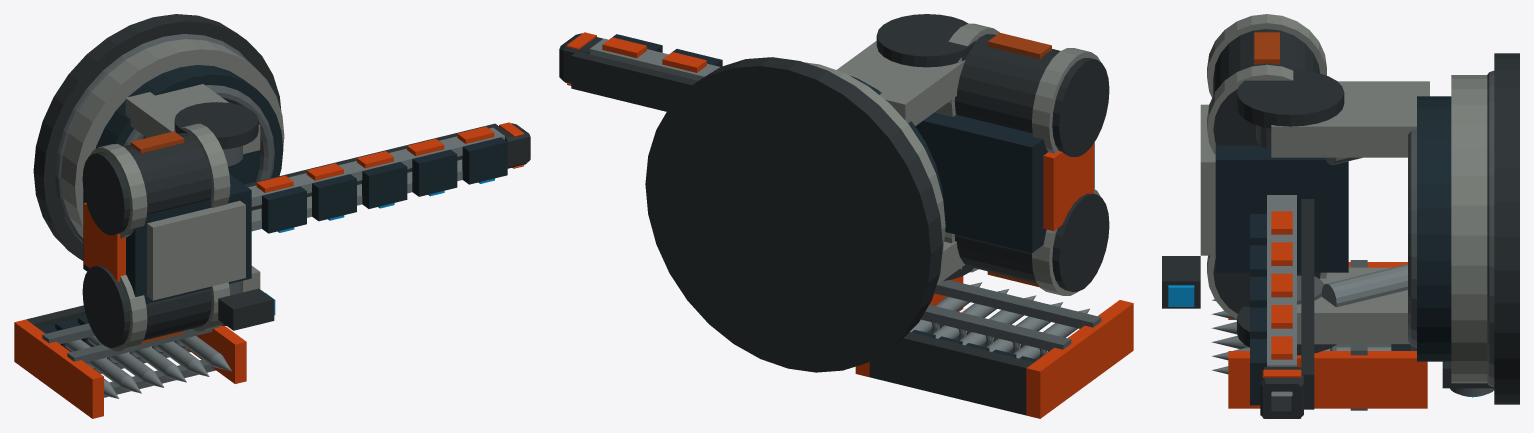
Rendered from harpoon_cannon_railgun_c_blockout_v5.obj.
The picture shows the model from 3 angles, left to right: view 1: azimuth 30°, elevation 25°; view 2: azimuth 150°, elevation 25°; view 3: azimuth 270°, elevation 25°; orthographic projection. The views are drawn at different scales.
Parts seen in each view (by area): view 1: HC_RG_STATIC_DeckFlange, HC_RG_STATIC_LowerHousing, HC_RG_PITCH_BreechTopPanel, HC_RG_PITCH_CapacitorPod_Right, HC_RG_PITCH_CapacitorPod_Left, HC_RG_YAW_Turntable, HC_RG_YAW_AmmoBasketRearGuard, HC_RG_PITCH_BreechHousing, HC_RG_YAW_ElevationFork_Right, HC_RG_YAW_ElevationGear_Right, HC_RG_STATIC_BoltRing, HC_RG_PITCH_BreechRearLatch (+26 smaller); view 2: HC_RG_STATIC_DeckFlange, HC_RG_PITCH_BreechHousing, HC_RG_PITCH_CapacitorPod_Right, HC_RG_YAW_AmmoBasketBottom, HC_RG_PITCH_CapacitorPod_Left, HC_RG_YAW_AmmoBasketRearGuard, HC_RG_YAW_ElevationFork_Right, HC_RG_PITCH_ChannelFloor, HC_RG_YAW_ElevationGear_Right, HC_RG_PITCH_BreechRearLatch, HC_RG_YAW_AmmoBasketRearRailHigh, HC_RG_YAW_AmmoBasketRearRailLow (+15 smaller); view 3: HC_RG_PITCH_BreechHousing, HC_RG_STATIC_LowerHousing, HC_RG_YAW_Turntable, HC_RG_STATIC_DeckFlange, HC_RG_YAW_ElevationFork_Right, HC_RG_YAW_AmmoBasketFrontGuard, HC_RG_YAW_ElevationFork_Left, HC_RG_YAW_ElevationGear_Right, HC_RG_PITCH_CapacitorPod_Right, HC_RG_PITCH_RailRight, HC_RG_PITCH_ChannelFloor, HC_RG_STATIC_BoltRing (+27 smaller).
Boxes of the visible parts, x1=… form: HC_RG_STATIC_DeckFlange: x1=33, y1=14, x2=281, y2=260; HC_RG_STATIC_LowerHousing: x1=61, y1=39, x2=284, y2=237; HC_RG_PITCH_BreechTopPanel: x1=147, y1=200, x2=245, y2=300; HC_RG_PITCH_CapacitorPod_Right: x1=82, y1=132, x2=211, y2=235; HC_RG_PITCH_CapacitorPod_Left: x1=82, y1=265, x2=211, y2=347; HC_RG_YAW_Turntable: x1=95, y1=65, x2=283, y2=184; HC_RG_YAW_AmmoBasketRearGuard: x1=14, y1=319, x2=103, y2=418; HC_RG_PITCH_BreechHousing: x1=83, y1=174, x2=251, y2=304; HC_RG_YAW_ElevationFork_Right: x1=125, y1=84, x2=260, y2=154; HC_RG_YAW_ElevationGear_Right: x1=174, y1=102, x2=258, y2=149; HC_RG_STATIC_BoltRing: x1=55, y1=34, x2=251, y2=243; HC_RG_PITCH_BreechRearLatch: x1=83, y1=202, x2=125, y2=281; HC_RG_STATIC_DeckFlange: x1=645, y1=57, x2=942, y2=372; HC_RG_PITCH_BreechHousing: x1=915, y1=112, x2=1094, y2=252; HC_RG_PITCH_CapacitorPod_Right: x1=954, y1=34, x2=1109, y2=156; HC_RG_YAW_AmmoBasketBottom: x1=869, y1=332, x2=1033, y2=415; HC_RG_PITCH_CapacitorPod_Left: x1=954, y1=193, x2=1109, y2=291; HC_RG_YAW_AmmoBasketRearGuard: x1=1026, y1=300, x2=1133, y2=418; HC_RG_YAW_ElevationFork_Right: x1=836, y1=41, x2=965, y2=126; HC_RG_PITCH_ChannelFloor: x1=571, y1=52, x2=697, y2=111; HC_RG_YAW_ElevationGear_Right: x1=876, y1=14, x2=975, y2=67; HC_RG_PITCH_BreechRearLatch: x1=1043, y1=143, x2=1093, y2=231; HC_RG_YAW_AmmoBasketRearRailHigh: x1=934, y1=280, x2=1101, y2=328; HC_RG_YAW_AmmoBasketRearRailLow: x1=920, y1=304, x2=1071, y2=350; HC_RG_PITCH_BreechHousing: x1=1215, y1=145, x2=1348, y2=272; HC_RG_STATIC_LowerHousing: x1=1451, y1=75, x2=1487, y2=383; HC_RG_YAW_Turntable: x1=1417, y1=96, x2=1451, y2=361; HC_RG_STATIC_DeckFlange: x1=1494, y1=53, x2=1519, y2=404; HC_RG_YAW_ElevationFork_Right: x1=1271, y1=81, x2=1429, y2=157; HC_RG_YAW_AmmoBasketFrontGuard: x1=1228, y1=351, x2=1427, y2=408; HC_RG_YAW_ElevationFork_Left: x1=1297, y1=267, x2=1409, y2=344; HC_RG_YAW_ElevationGear_Right: x1=1237, y1=69, x2=1344, y2=128; HC_RG_PITCH_CapacitorPod_Right: x1=1213, y1=29, x2=1319, y2=145; HC_RG_PITCH_RailRight: x1=1267, y1=195, x2=1296, y2=366; HC_RG_PITCH_ChannelFloor: x1=1301, y1=199, x2=1314, y2=409; HC_RG_STATIC_BoltRing: x1=1487, y1=70, x2=1494, y2=387.
Size of the model in its own units: 310 by 184 by 167.
